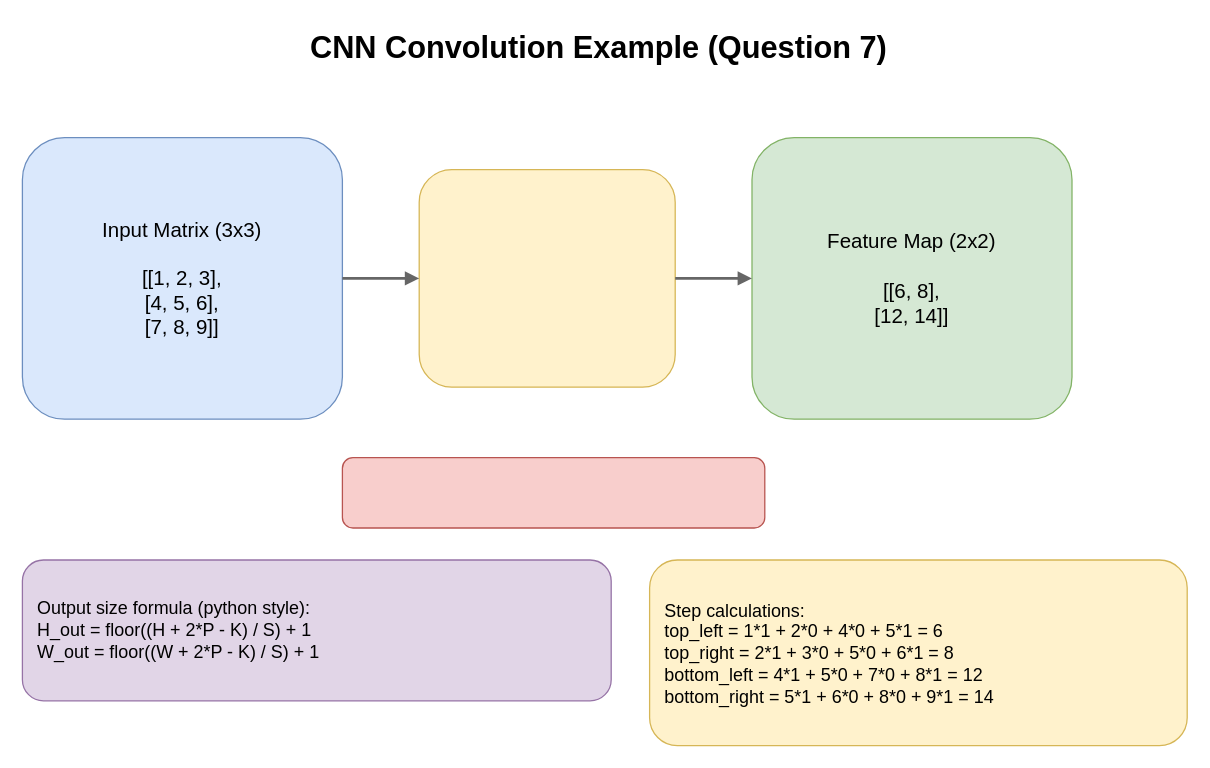
Some shapes in this 1210 by 768 pixel diagram are drawn without their labels. The shapes that lost their labels are listed below. From the top down, each one's centre as x and y in pixels, then its label:
the point at 546,277: Kernel (2x2) [[1, 0], [0, 1]]
the point at 553,492: Parameters: stride = 1, padding = 0
